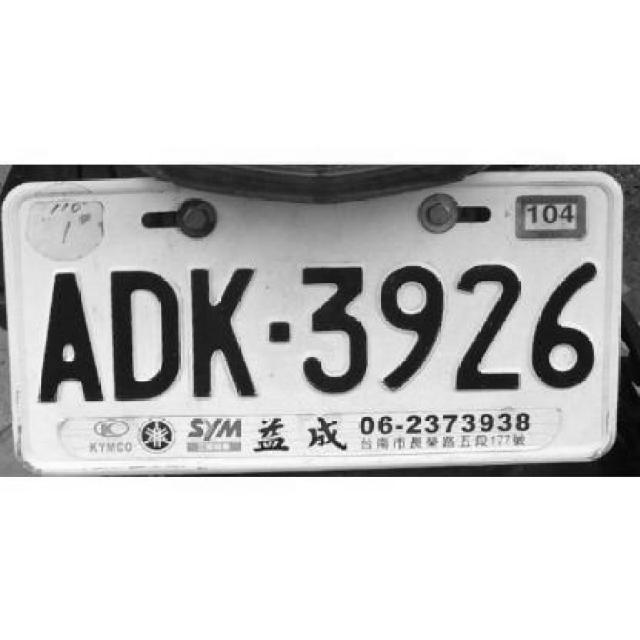-: (266, 314, 291, 341)
2: (449, 257, 525, 392)
3: (298, 260, 368, 397)
6: (528, 255, 600, 391)
9: (372, 257, 450, 394)
A: (34, 260, 106, 408)
D: (105, 262, 182, 404)
K: (186, 260, 260, 402)
